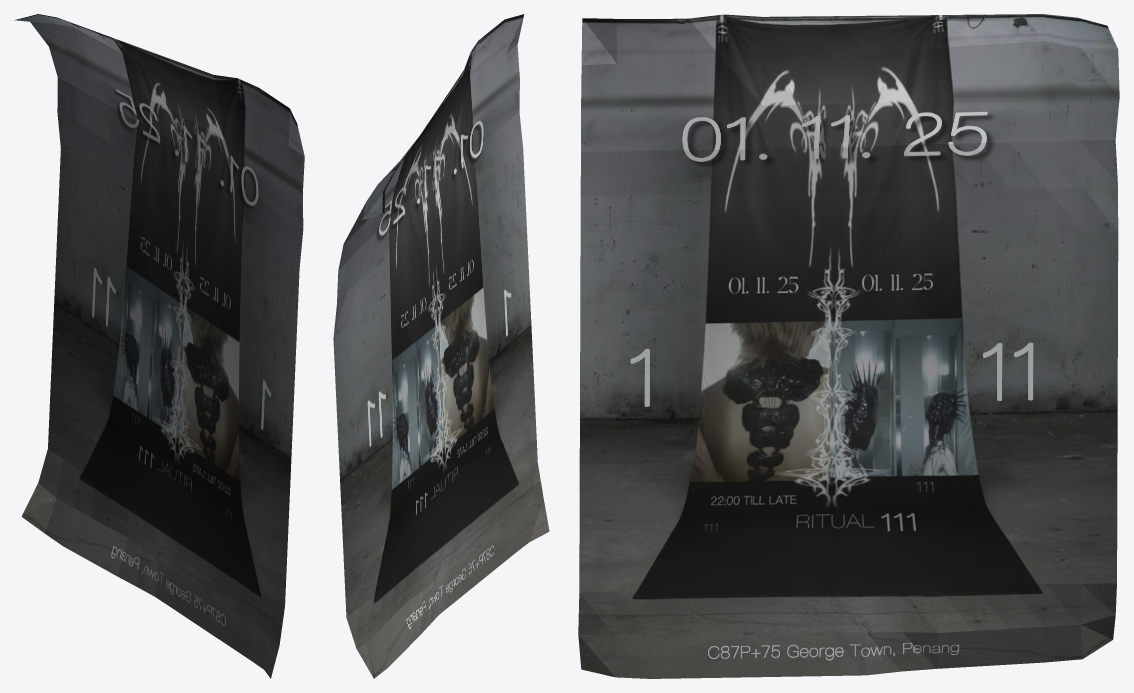
3 views of the same model, side by side, from view 1: azimuth 30°, elevation 25°; view 2: azimuth 150°, elevation 25°; view 3: azimuth 270°, elevation 25° (orthographic). The views are drawn at different scales.
Visible parts, largest first — view 1: pPlane1_Poster_01_Mat 6; view 2: pPlane1_Poster_01_Mat 6; view 3: pPlane1_Poster_01_Mat 6.
Part boxes in pixels (x1,y1,x2,y2): pPlane1_Poster_01_Mat 6: [14, 14, 304, 678]; pPlane1_Poster_01_Mat 6: [333, 14, 549, 678]; pPlane1_Poster_01_Mat 6: [578, 14, 1119, 678].
Bounding box in the file's own units: 8.48 × 60.58 × 44.
Materials: 1 (1 with a texture image).
